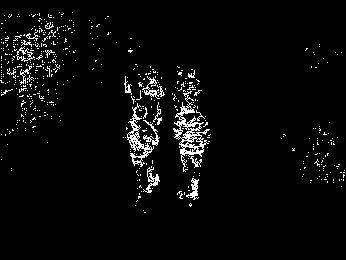person: (172, 97, 212, 202), (124, 104, 161, 205), (142, 62, 164, 124), (123, 61, 146, 111), (180, 67, 203, 111)
